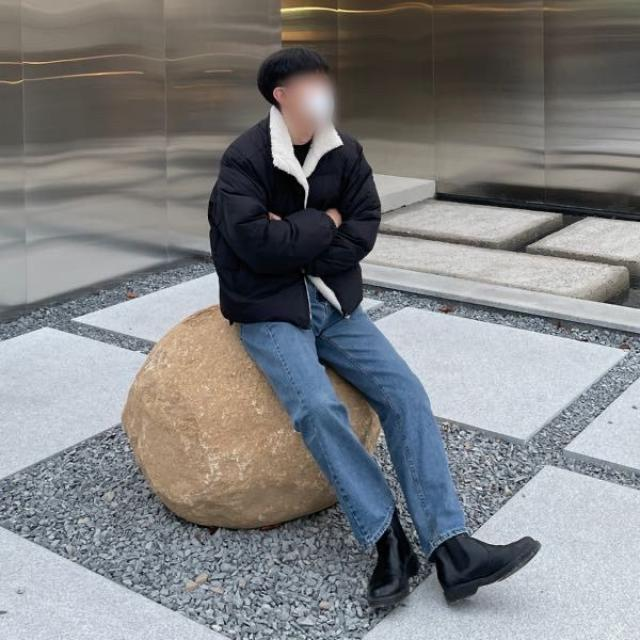denimpants: (241, 275, 473, 566)
padding: (207, 98, 383, 332)
